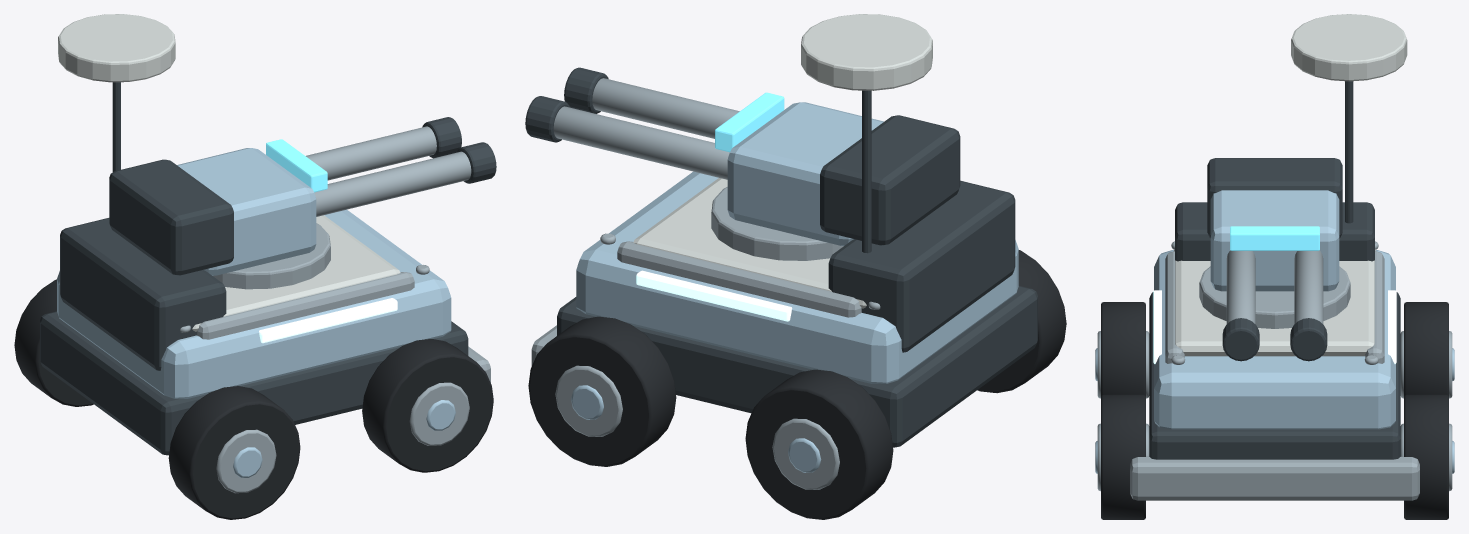
The model's file is robot-sentry.glb.
The picture shows the model from 3 angles, left to right: view 1: azimuth 30°, elevation 25°; view 2: azimuth 150°, elevation 25°; view 3: azimuth 270°, elevation 25°; orthographic projection. The views are drawn at different scales.
Visible parts, largest first — view 1: Chassis_GraphiteArmor, ArmorHull, Chassis_CeramicPanels, AmmoContainer, WheelTire.002, WheelTire, TurretHousing, GunPitch_BrushedTitanium, Chassis_BrushedTitanium, WheelTire.001, TurretBearing, Hub.002 (+6 smaller); view 2: Chassis_GraphiteArmor, ArmorHull, Chassis_CeramicPanels, WheelTire.003, WheelTire.001, AmmoContainer, TurretHousing, GunPitch_BrushedTitanium, Chassis_BrushedTitanium, WheelTire, TurretBearing, Hub.001 (+6 smaller); view 3: ArmorHull, Chassis_BrushedTitanium, Chassis_CeramicPanels, Chassis_GraphiteArmor, TurretHousing, WheelTire.003, WheelTire.002, AmmoContainer, WheelTire.001, WheelTire, GunPitch_BrushedTitanium, TurretBearing (+5 smaller).
Part boxes in pixels (box(x1,y1,x2,y2)): Chassis_GraphiteArmor: box(40, 82, 468, 455); ArmorHull: box(57, 209, 451, 398); Chassis_CeramicPanels: box(58, 14, 400, 331); AmmoContainer: box(109, 159, 233, 275); WheelTire.002: box(362, 339, 493, 472); WheelTire: box(168, 386, 300, 519); TurretHousing: box(177, 148, 316, 275); GunPitch_BrushedTitanium: box(306, 126, 471, 216); Chassis_BrushedTitanium: box(180, 265, 490, 382); WheelTire.001: box(14, 279, 93, 406); TurretBearing: box(213, 223, 330, 289); Hub.002: box(409, 382, 469, 445); Chassis_GraphiteArmor: box(557, 90, 1037, 447); ArmorHull: box(576, 171, 1018, 383); Chassis_CeramicPanels: box(633, 14, 932, 308); WheelTire.003: box(528, 316, 676, 466); WheelTire.001: box(745, 369, 893, 519); AmmoContainer: box(820, 115, 960, 245); TurretHousing: box(727, 102, 883, 245); GunPitch_BrushedTitanium: box(553, 78, 739, 179); Chassis_BrushedTitanium: box(531, 233, 880, 365); WheelTire: box(977, 250, 1066, 393); TurretBearing: box(711, 187, 843, 260); Hub.001: box(772, 418, 839, 489); ArmorHull: box(1154, 250, 1395, 429); Chassis_BrushedTitanium: box(1130, 241, 1419, 500); Chassis_CeramicPanels: box(1174, 14, 1407, 356); Chassis_GraphiteArmor: box(1149, 81, 1400, 459); TurretHousing: box(1210, 190, 1339, 291); WheelTire.003: box(1404, 394, 1448, 519); WheelTire.002: box(1101, 394, 1145, 519); AmmoContainer: box(1207, 158, 1342, 238); WheelTire.001: box(1404, 302, 1448, 396); WheelTire: box(1101, 302, 1145, 396); GunPitch_BrushedTitanium: box(1226, 250, 1323, 323); TurretBearing: box(1199, 266, 1350, 328).
Size of the model in its own units: 1.3 by 1.31 by 1.11.
